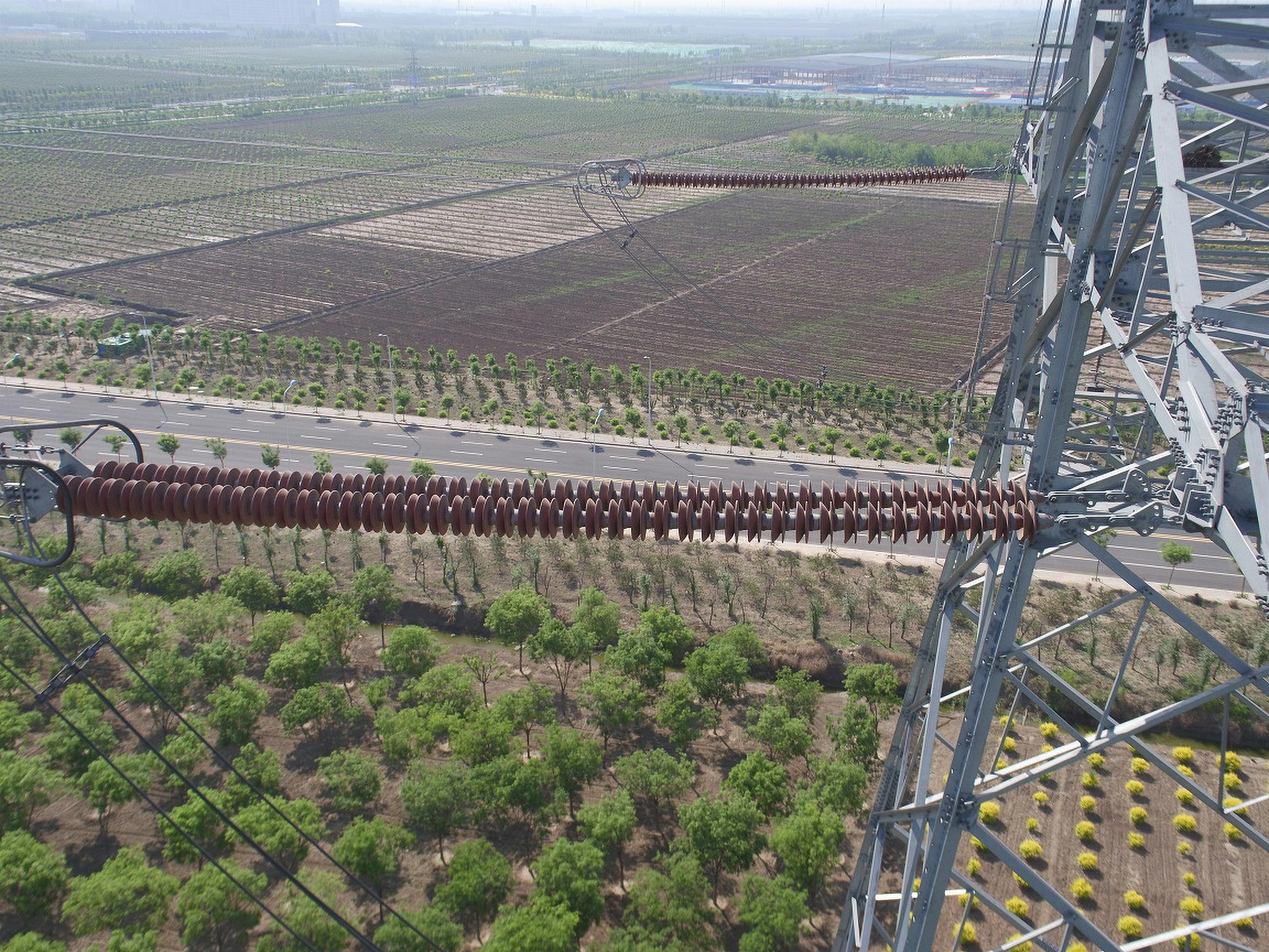insulator: (53, 455, 1047, 548), (628, 161, 970, 191)
